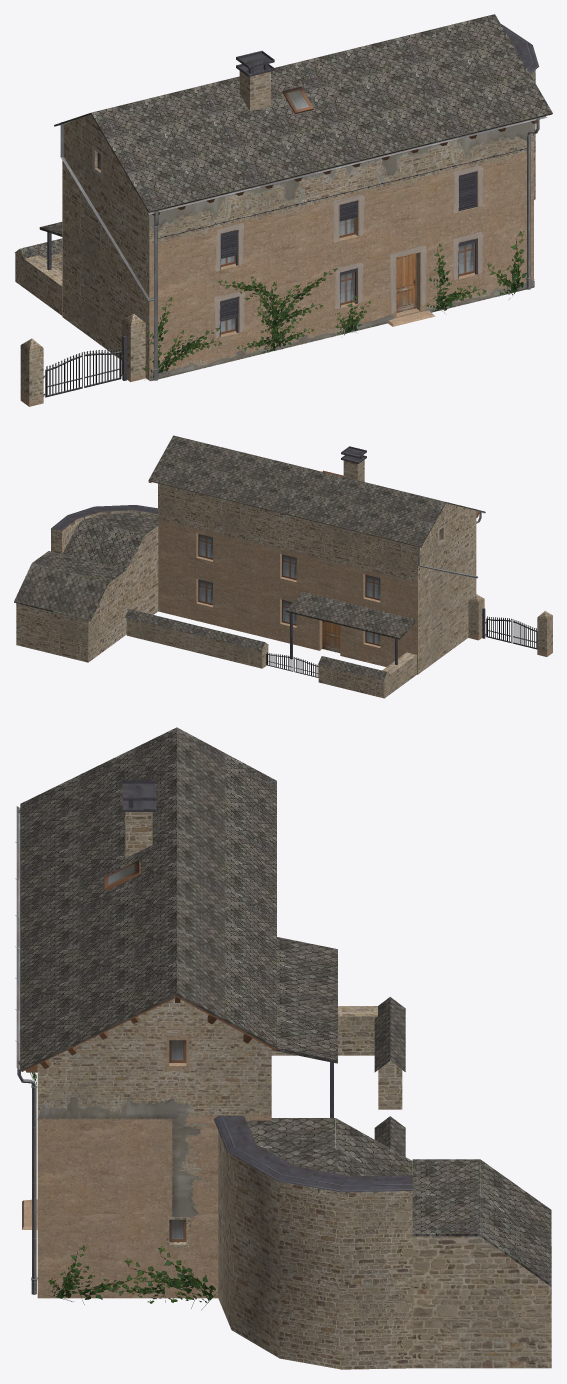
File: house-single.glb
3 views of the same model, one above another, from view 1: azimuth 30°, elevation 25°; view 2: azimuth 150°, elevation 25°; view 3: azimuth 270°, elevation 25° (orthographic). The views are drawn at different scales.
Parts seen in each view (by area): view 1: TheHouse; view 2: TheHouse; view 3: TheHouse.
Part boxes in pixels (x1,y1,x2,y2): TheHouse: [15, 14, 552, 406]; TheHouse: [14, 435, 552, 698]; TheHouse: [15, 727, 551, 1369].
Size of the model in its own units: 25.48 by 10.7 by 14.31.
2 materials, 2 textured.
